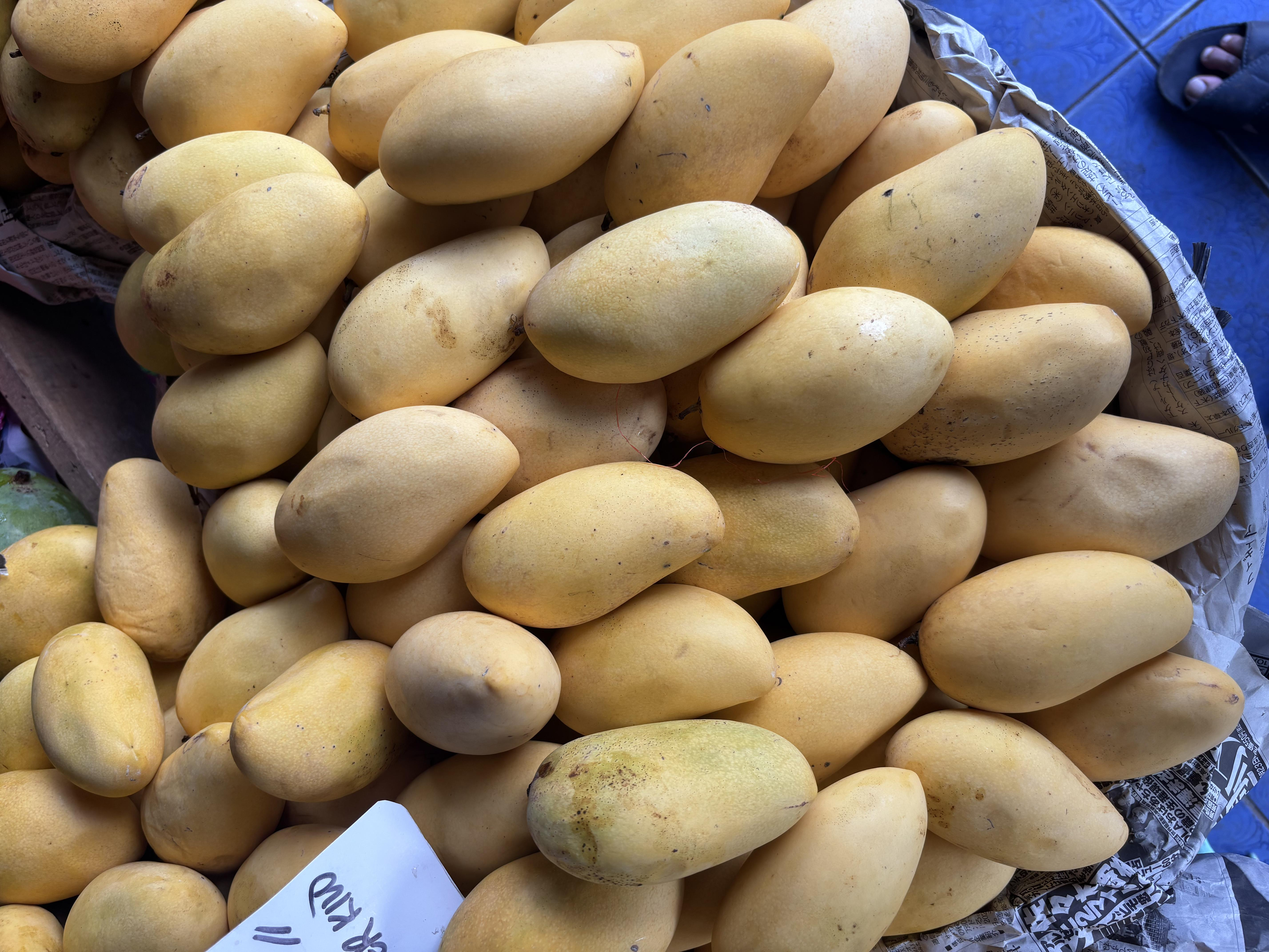mango: (523, 201, 800, 383), (527, 719, 816, 886), (699, 287, 954, 464), (919, 550, 1192, 713), (378, 40, 644, 205), (274, 405, 519, 583), (463, 462, 724, 628), (141, 173, 368, 354), (386, 611, 561, 754), (30, 623, 164, 797)
occluded: (605, 19, 833, 224), (808, 128, 1046, 321), (329, 226, 550, 419), (882, 303, 1130, 466), (971, 414, 1239, 563), (712, 768, 927, 952), (886, 709, 1128, 870), (783, 465, 987, 640), (450, 356, 667, 514), (550, 584, 776, 734), (711, 632, 927, 782), (142, 0, 346, 148), (230, 640, 412, 802), (759, 0, 908, 197), (1018, 653, 1244, 781), (667, 454, 859, 600), (152, 332, 329, 488), (175, 578, 348, 736), (329, 29, 520, 171), (95, 458, 225, 662), (122, 131, 339, 252), (395, 740, 560, 894), (440, 853, 683, 952), (813, 100, 977, 246), (141, 722, 284, 873), (530, 0, 789, 82), (349, 171, 533, 286), (0, 769, 146, 905), (970, 226, 1152, 334), (346, 523, 483, 647), (0, 525, 103, 678), (819, 682, 964, 789), (11, 0, 195, 83), (70, 77, 163, 238), (63, 862, 227, 952), (280, 738, 437, 827), (202, 479, 309, 606), (0, 37, 116, 153), (884, 834, 1014, 935), (227, 824, 346, 929), (333, 0, 519, 60), (522, 141, 612, 241), (115, 252, 182, 376), (667, 853, 750, 952), (287, 88, 368, 186), (0, 657, 52, 773), (662, 356, 710, 446), (546, 215, 605, 268), (0, 904, 62, 952), (316, 394, 360, 450), (514, 0, 571, 43), (19, 140, 72, 184), (781, 226, 809, 304), (150, 660, 184, 710), (163, 707, 186, 759), (0, 0, 17, 49)
